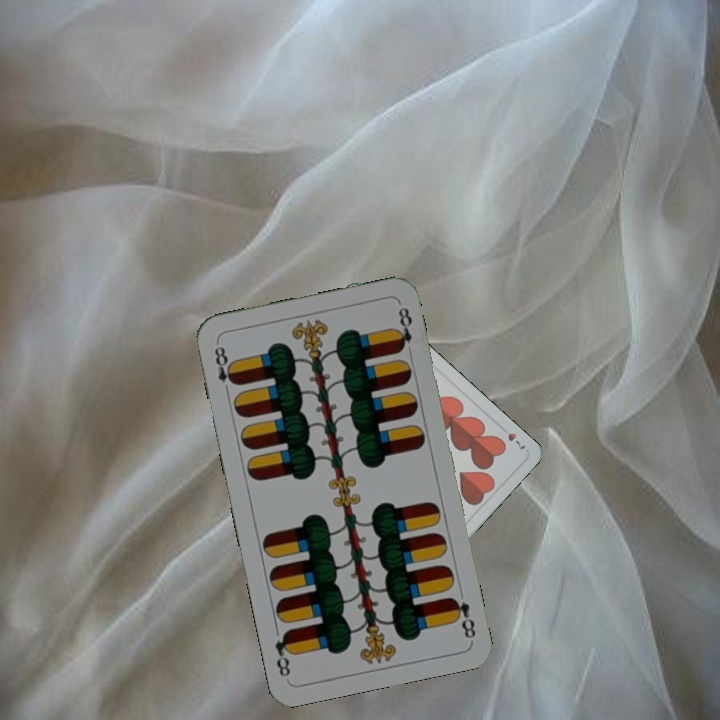E8: (210, 342, 239, 398), (447, 593, 478, 641)
H7: (495, 421, 528, 452)
